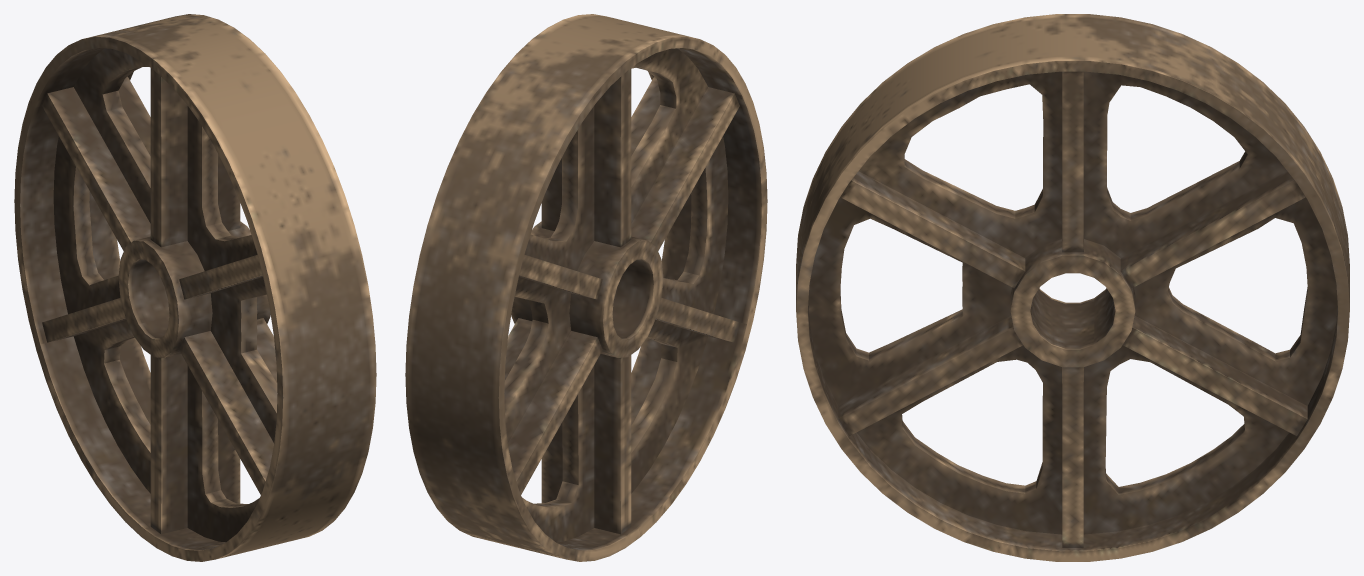
File: SM_SteampunkGear3.fbx
3 renders of one model, left to right at view 1: azimuth 30°, elevation 25°; view 2: azimuth 150°, elevation 25°; view 3: azimuth 270°, elevation 25°, orthographic. The views are drawn at different scales.
Visible parts, largest first — view 1: SM_SteampunkGear3_LOD0; view 2: SM_SteampunkGear3_LOD0; view 3: SM_SteampunkGear3_LOD0.
Boxes of the visible parts, x1=… form: SM_SteampunkGear3_LOD0: x1=14, y1=14, x2=376, y2=561; SM_SteampunkGear3_LOD0: x1=405, y1=14, x2=767, y2=561; SM_SteampunkGear3_LOD0: x1=796, y1=14, x2=1349, y2=561.
Size of the model in its own units: 11.1 by 55.35 by 55.26.
1 material, 1 textured.
